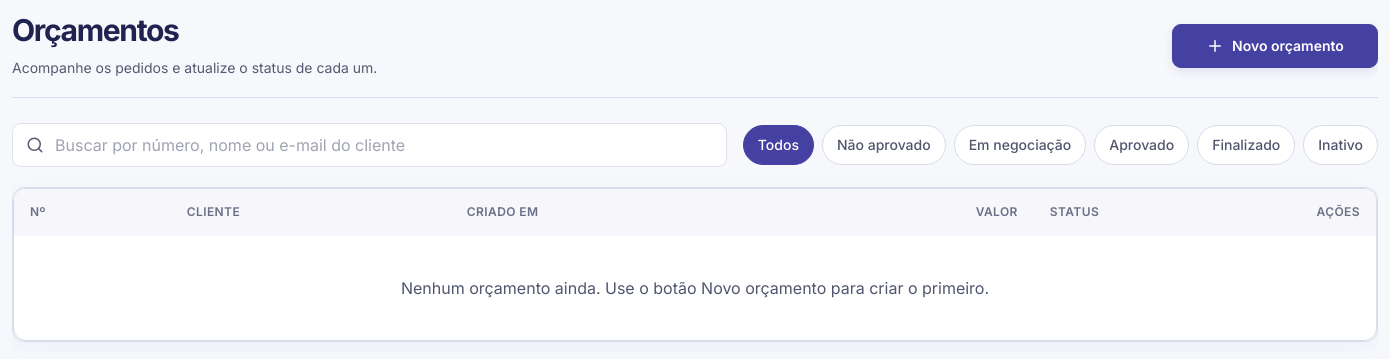
Test: Lista de orçamentos › explica quando não há resultado para o filtro
Expected: the text "Nenhum orçamento ainda" is shown, [401,278,989,298]
Click the button "Inativo". click: point(1341, 145)
box: [1303,125,1378,165]
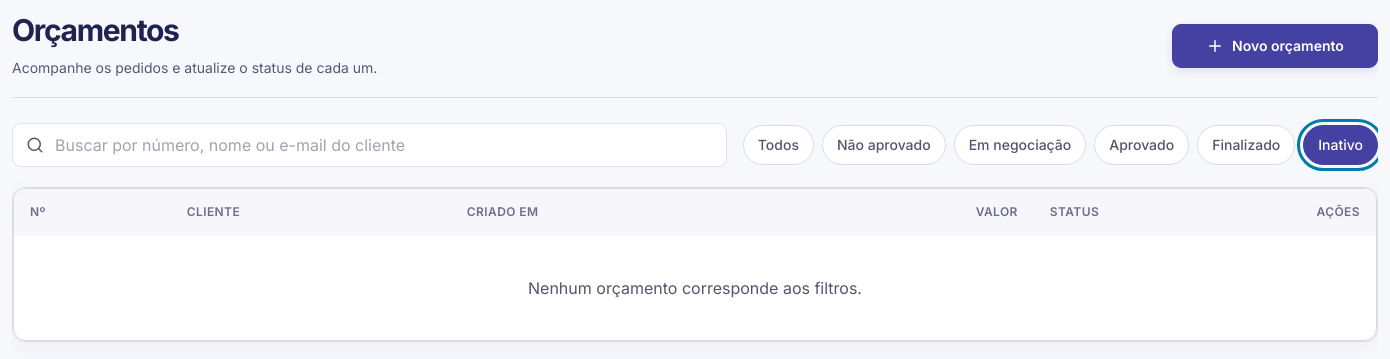
Expected: the text "Nenhum orçamento corresponde aos filtros." is shown, [528,278,862,298]
